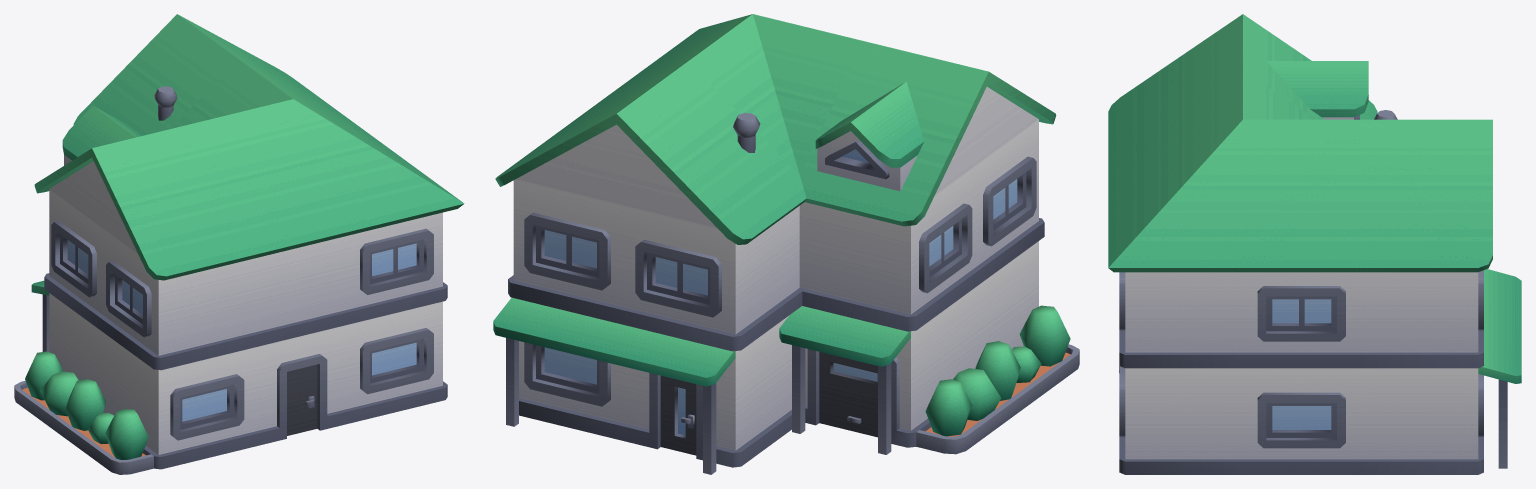
Rendered from Building13.glb.
3 renders of one model, left to right at view 1: azimuth 30°, elevation 25°; view 2: azimuth 150°, elevation 25°; view 3: azimuth 270°, elevation 25°, orthographic. The views are drawn at different scales.
Visible parts, largest first — view 1: building-type-f; view 2: building-type-f; view 3: building-type-f.
Part boxes in pixels (x1,y1,x2,y2): building-type-f: (14,14,464,474); building-type-f: (493,14,1079,474); building-type-f: (1108,14,1521,474).
Bounding box in the file's own units: 1.43 × 1.14 × 1.41.
Materials: 1 (1 with a texture image).
